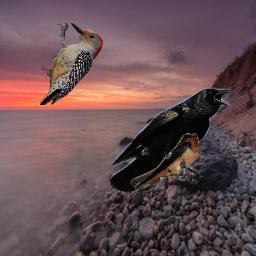Crow: (110, 87, 231, 192)
Swallow: (123, 133, 199, 195)
Woodpecker: (40, 23, 103, 105)
